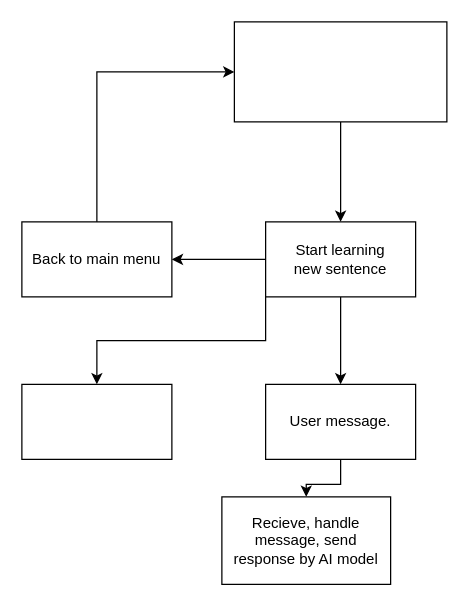
Image size: 469x606. Some labels were removed from this diagram. The box of each missing label's shape, as (x1, y1, x2, y2) in pixels:
It is not voice. Will say "send voice message please".: (21, 383, 172, 459)
Start menu: (233, 21, 447, 122)
